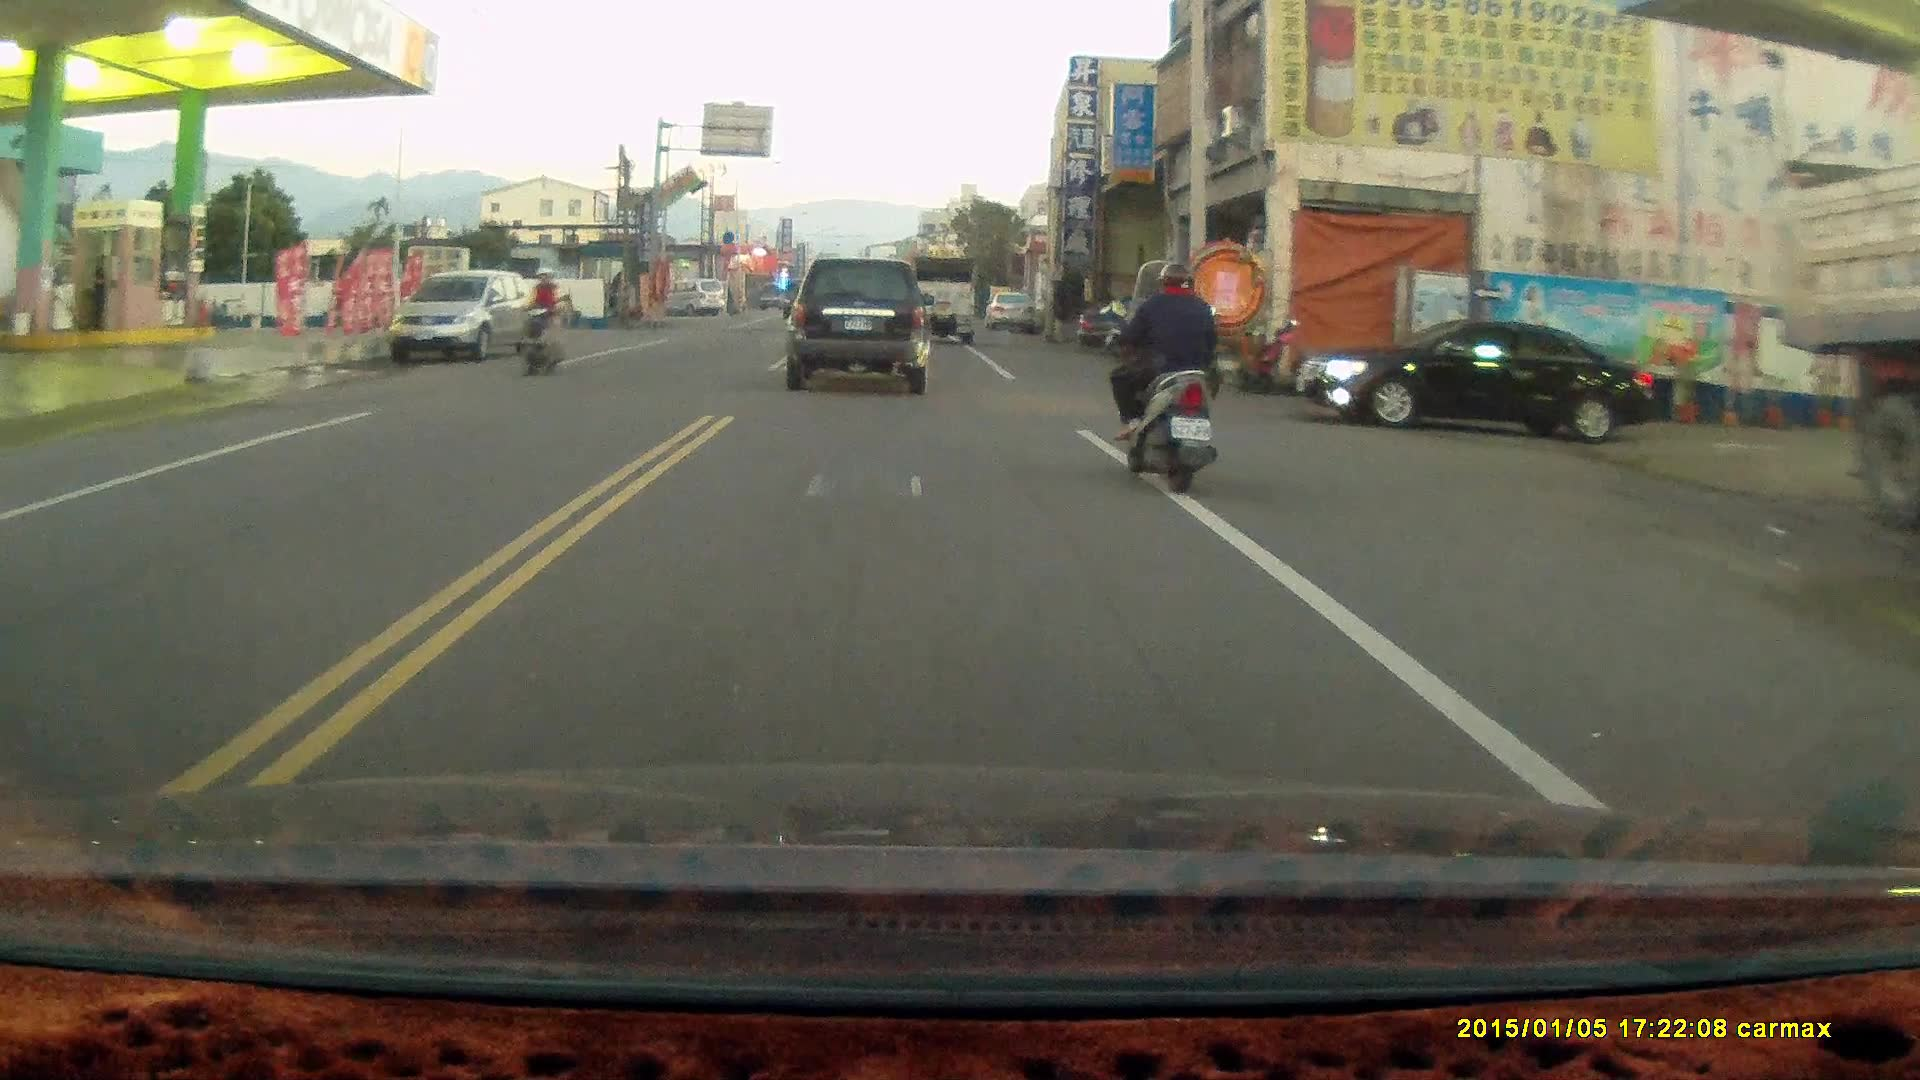rider: (1105, 260, 1217, 495), (516, 267, 562, 373)
vehicle: (1769, 127, 1920, 532), (1296, 324, 1669, 446), (790, 256, 938, 395), (387, 270, 532, 370), (894, 253, 979, 346)
